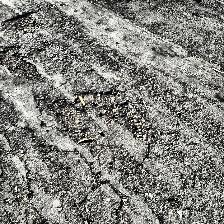pothole: (48, 88, 150, 144), (0, 44, 44, 80), (1, 12, 43, 34)
